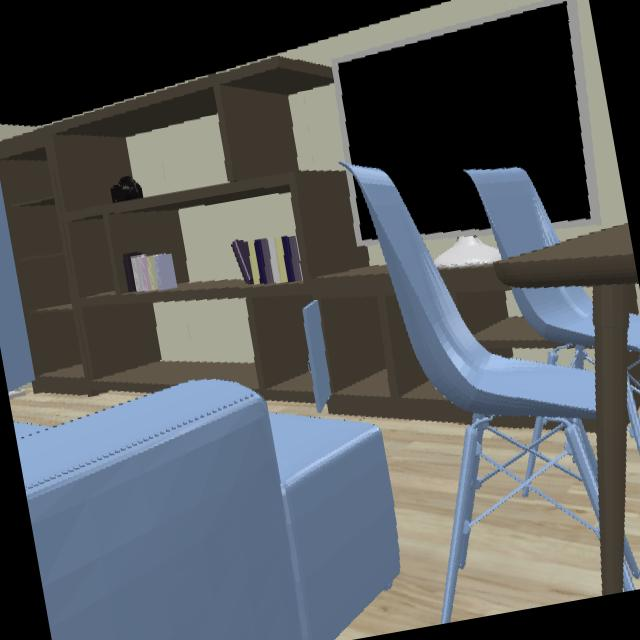book: (231, 235, 303, 285), (130, 253, 177, 292)
bookshelf: (57, 63, 473, 424), (424, 229, 565, 355)
chair: (340, 163, 596, 420), (464, 169, 560, 260), (511, 283, 595, 347)
monitor: (335, 3, 592, 238)
shelf: (0, 130, 74, 375)
sofa: (14, 381, 397, 640)
table: (493, 224, 639, 578)
